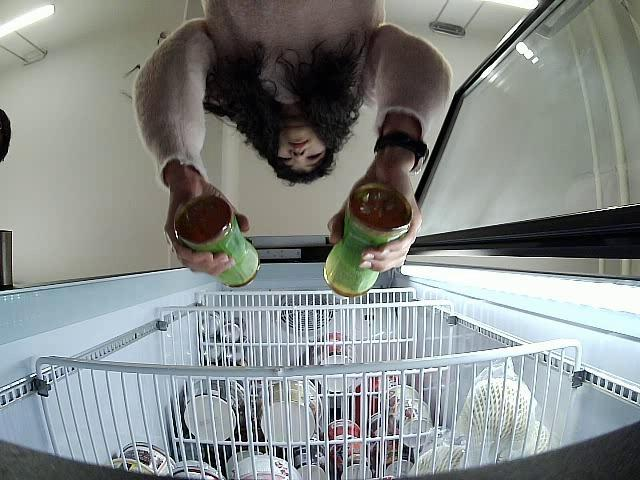19_17cha: (324, 183, 412, 296), (172, 194, 260, 290)
